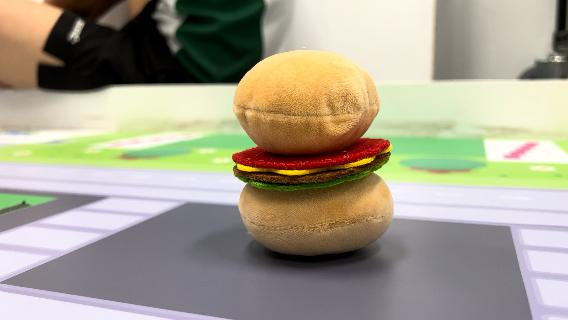burger: (226, 45, 400, 258)
